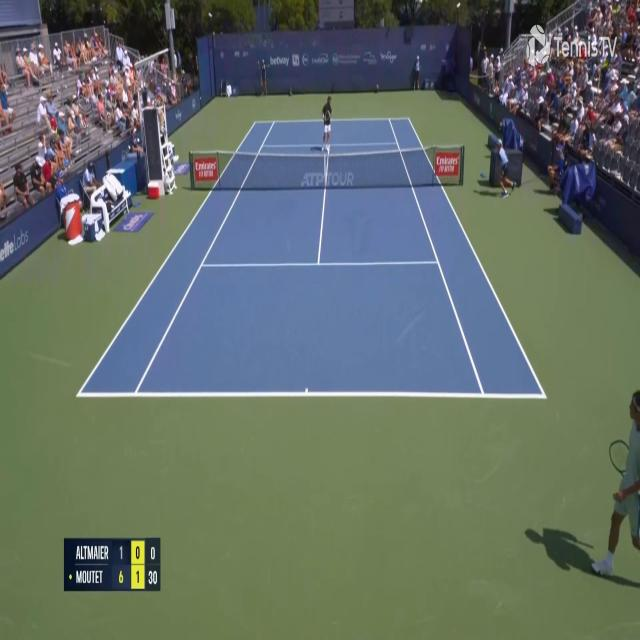tennis-player: (592, 377, 640, 582), (319, 89, 334, 156)
